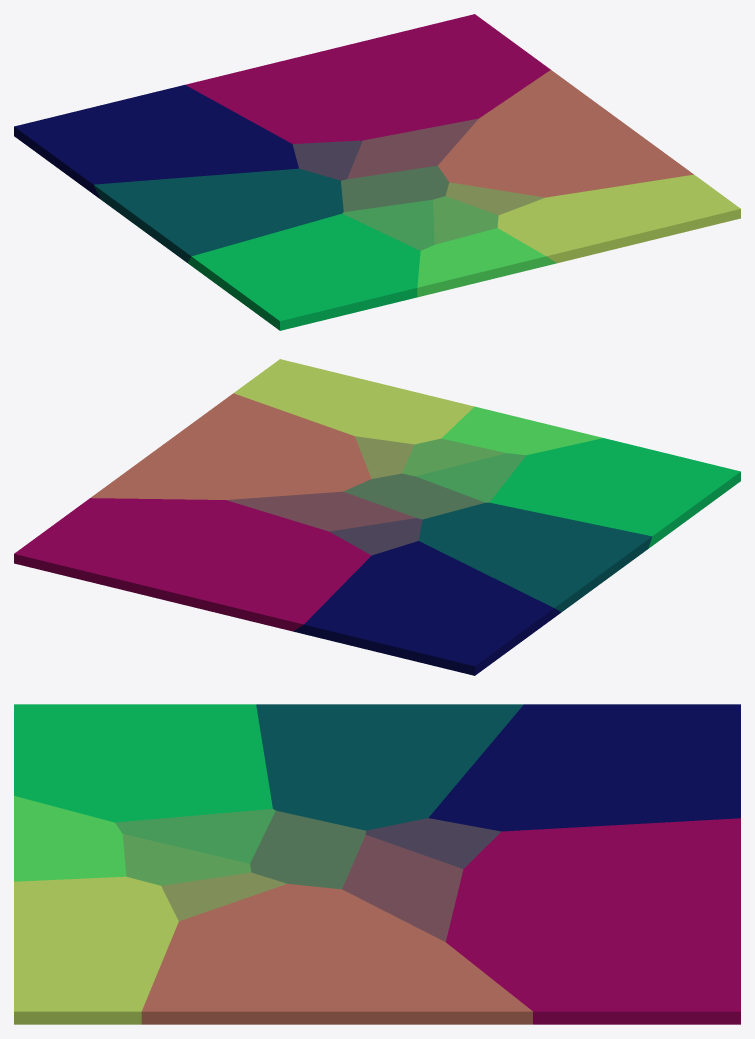
The model's file is vertex_animation_textures1_mesh.fbx.
3 renders of one model, top to bottom at view 1: azimuth 30°, elevation 25°; view 2: azimuth 150°, elevation 25°; view 3: azimuth 270°, elevation 25°, orthographic. The views are drawn at different scales.
Parts seen in each view (by area): view 1: MESH; view 2: MESH; view 3: MESH.
Part boxes in pixels (x1,y1,x2,y2): MESH: (14, 14, 740, 330); MESH: (14, 359, 740, 675); MESH: (14, 704, 740, 1024).
Bounding box in the file's own units: 1500 × 30 × 1500.
